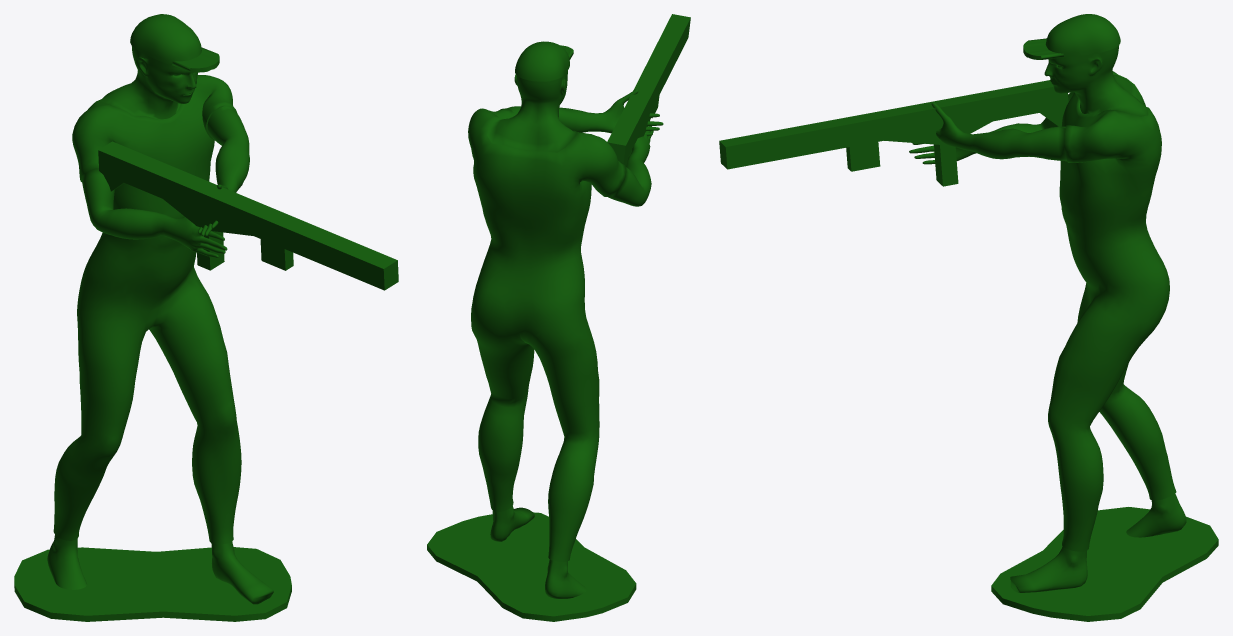
Rendered from Soldado1.fbx.
3 renders of one model, left to right at view 1: azimuth 30°, elevation 25°; view 2: azimuth 150°, elevation 25°; view 3: azimuth 270°, elevation 25°, orthographic. The views are drawn at different scales.
Visible parts, largest first — view 1: OldMan_low.001, Cube.001, Cube; view 2: OldMan_low.001, Cube.001, Cube; view 3: OldMan_low.001, Cube, Cube.001.
Part boxes in pixels (x1=…): OldMan_low.001: x1=47, y1=14, x2=273, y2=604; Cube.001: x1=14, y1=547, x2=291, y2=621; Cube: x1=98, y1=141, x2=398, y2=290; OldMan_low.001: x1=468, y1=41, x2=663, y2=598; Cube.001: x1=427, y1=512, x2=636, y2=621; Cube: x1=607, y1=14, x2=690, y2=166; OldMan_low.001: x1=909, y1=14, x2=1186, y2=592; Cube: x1=719, y1=80, x2=1068, y2=186; Cube.001: x1=991, y1=507, x2=1218, y2=621.
Bounding box in the file's own units: 70.21 × 168 × 136.
